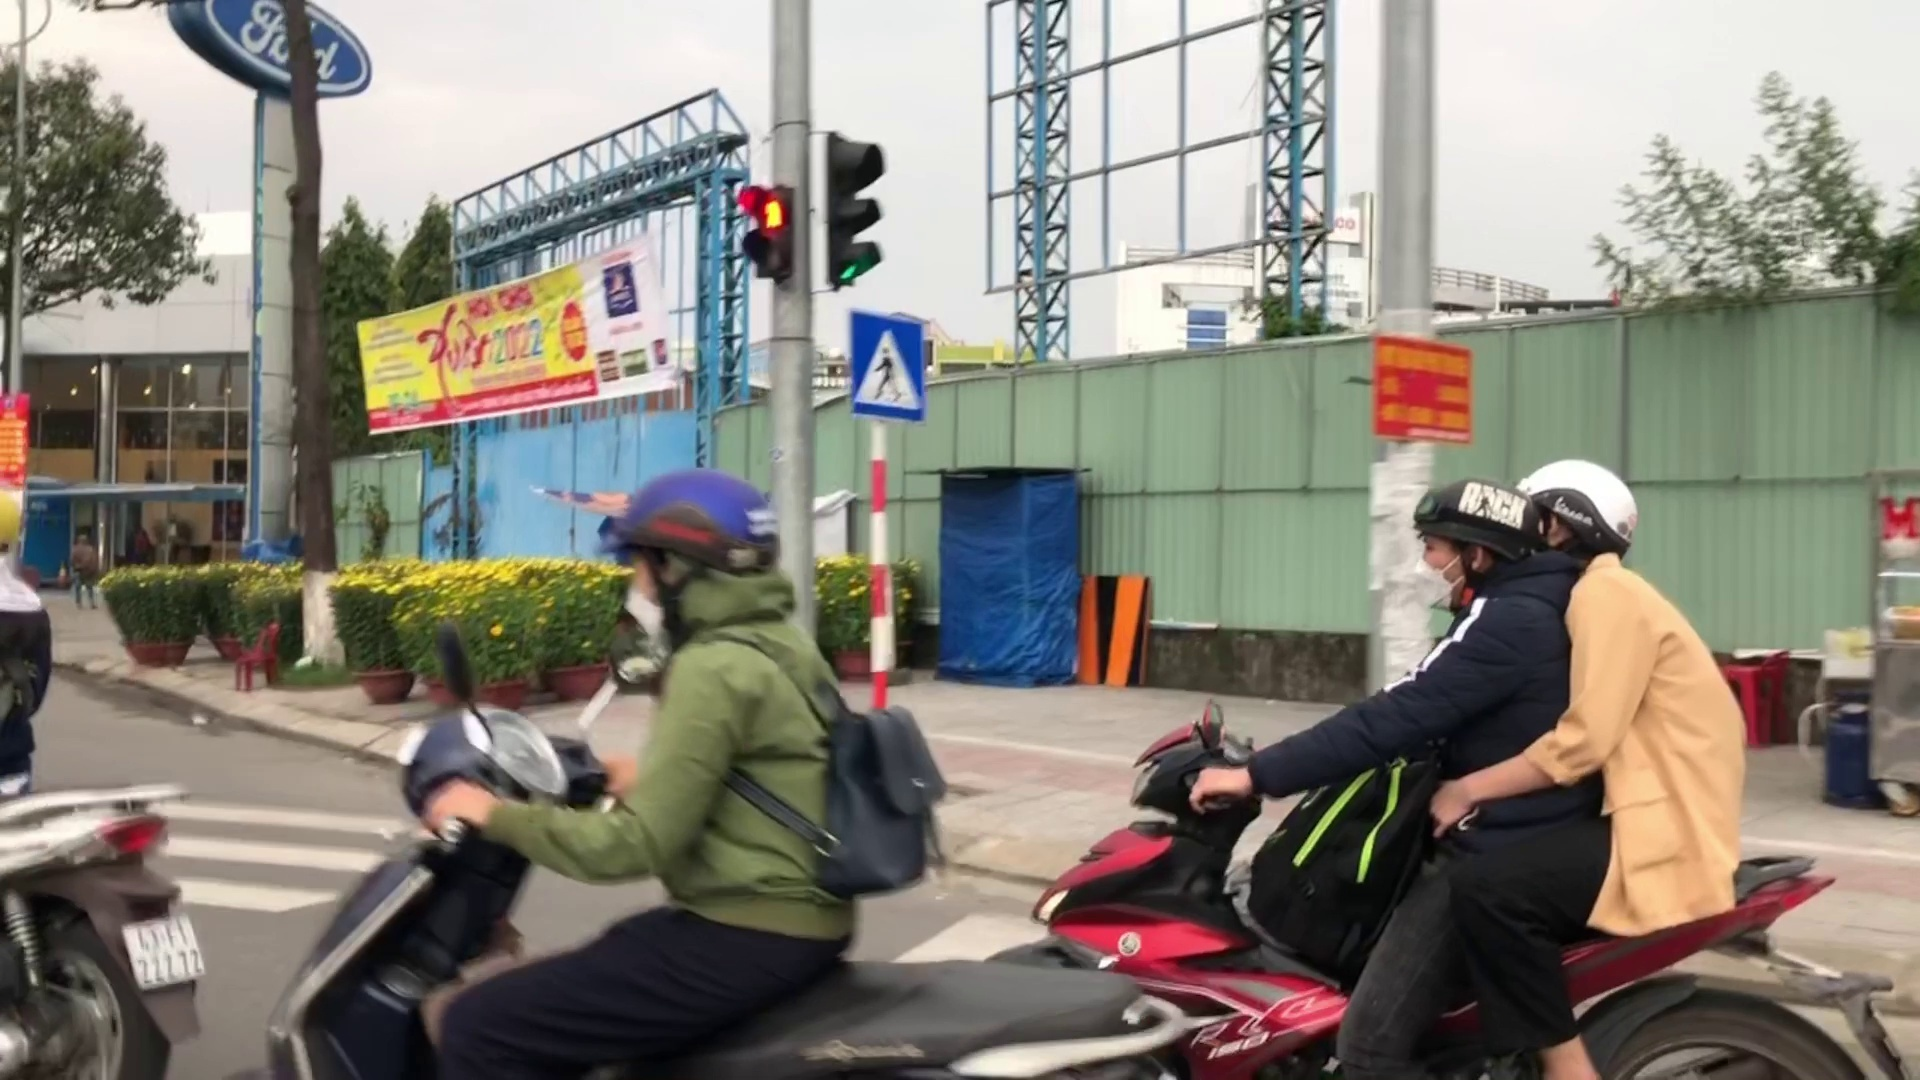Nguoi di bo: (847, 306, 928, 429)
